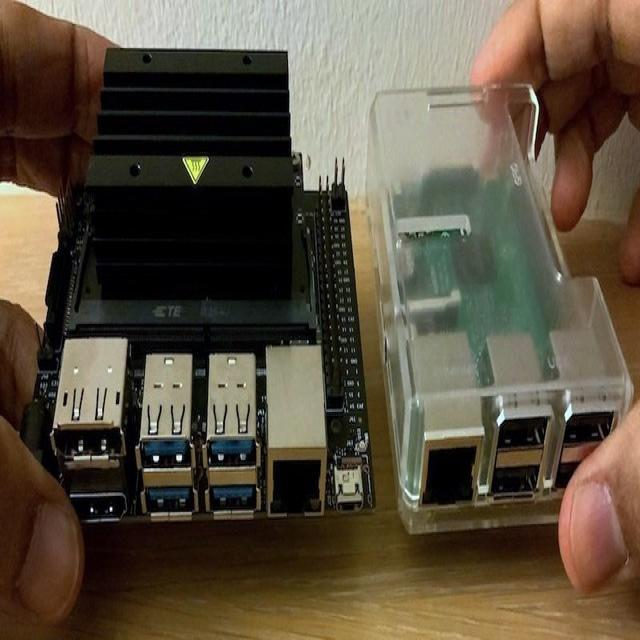Jetson Nano: (32, 48, 377, 523)
